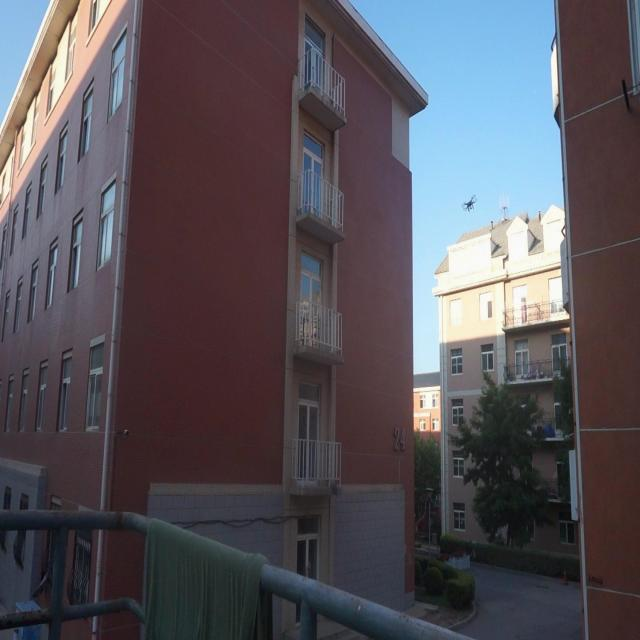drone: (458, 191, 478, 215)
